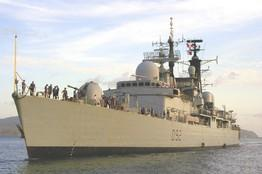warship: (11, 17, 247, 159)
